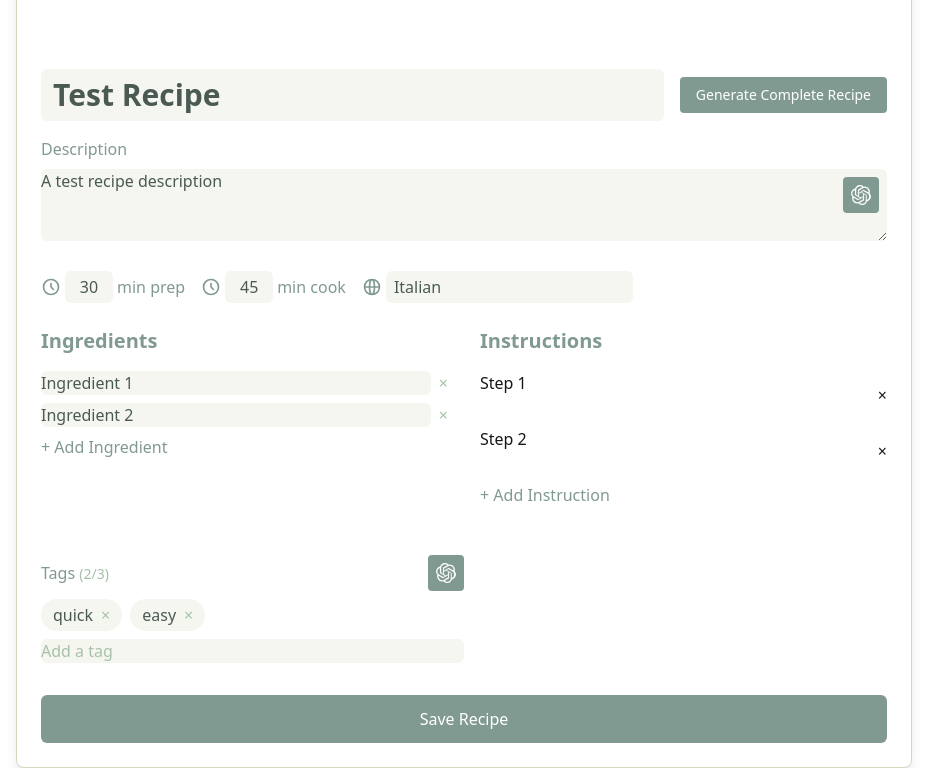
Test: RecipeForm › handles AI tag generation
The width and height of the screenshot is (929, 768).
(page scrolled)
Click the button titled "Generate Tags" at (446, 573), box [428,555,464,591]
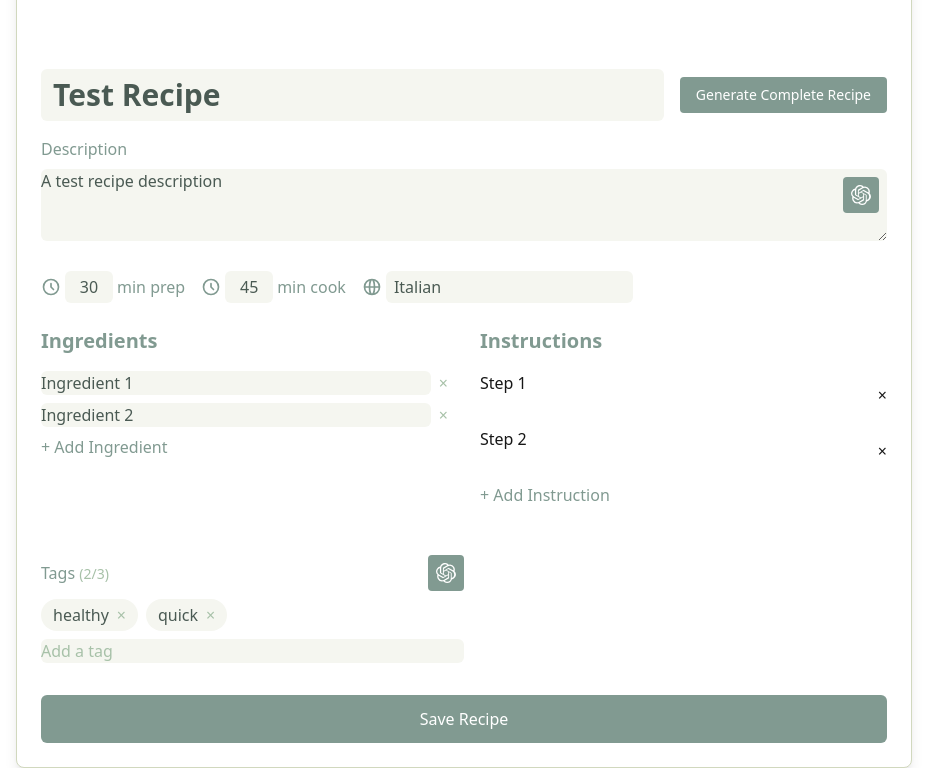
Now the text "healthy" is shown, box [53,604,109,626]
Now the text "quick" is shown, box [158,604,198,626]
